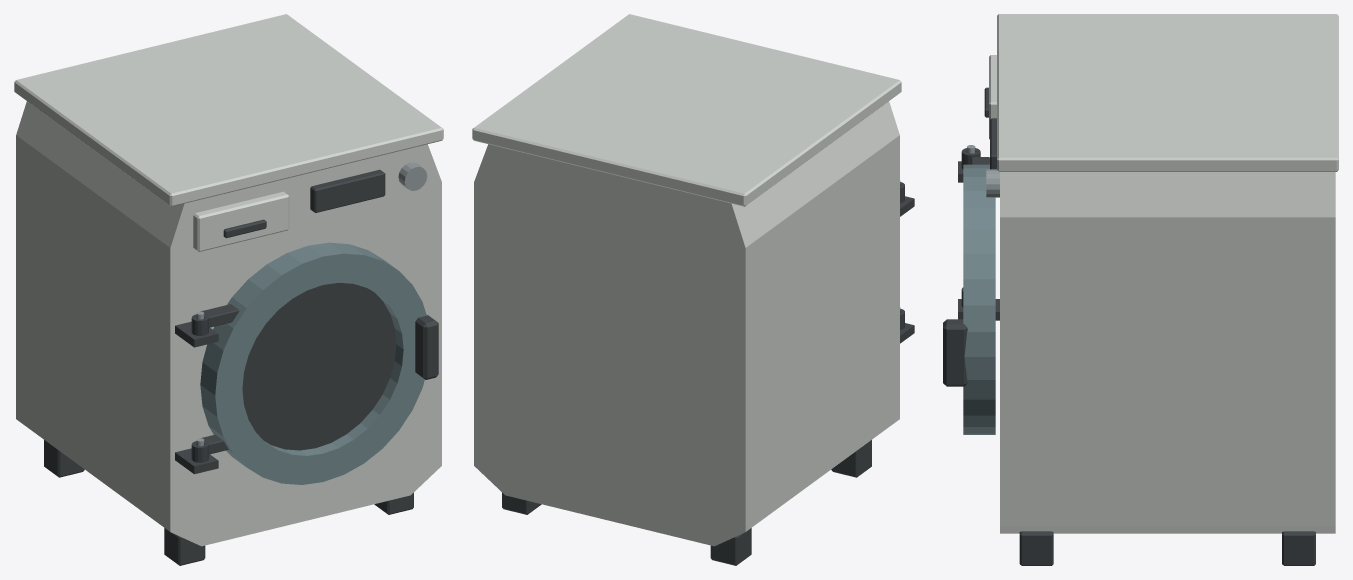
The picture shows the model from 3 angles, left to right: view 1: azimuth 30°, elevation 25°; view 2: azimuth 150°, elevation 25°; view 3: azimuth 270°, elevation 25°; orthographic projection. The views are drawn at different scales.
Parts seen in each view (by area): view 1: Continuous washer housing and real circular cavity, Upper overhanging appliance cap, Door thick annular rim, Door recessed dark inspection disc, Detergent drawer fixed face, Unlit control display, Door side pull grip, Washer grounded foot -0.25 -0.25, Washer grounded foot -0.25 0.25, Static selector dial, Fixed door hinge seat 1, Fixed door hinge seat 2 (+1 smaller); view 2: Continuous washer housing and real circular cavity, Upper overhanging appliance cap, Washer grounded foot -0.25 0.25, Washer grounded foot -0.25 -0.25; view 3: Continuous washer housing and real circular cavity, Upper overhanging appliance cap, Door thick annular rim, Door side pull grip, Washer grounded foot 0.25 -0.25, Washer grounded foot 0.25 0.25, Detergent drawer fixed face.
Boxes of the visible parts, x1=… form: Continuous washer housing and real circular cavity: x1=16, y1=101, x2=441, y2=546; Upper overhanging appliance cap: x1=14, y1=14, x2=443, y2=206; Door thick annular rim: x1=200, y1=242, x2=426, y2=484; Door recessed dark inspection disc: x1=242, y1=282, x2=396, y2=450; Detergent drawer fixed face: x1=193, y1=191, x2=289, y2=251; Unlit control display: x1=310, y1=169, x2=385, y2=212; Door side pull grip: x1=415, y1=315, x2=438, y2=379; Washer grounded foot -0.25 -0.25: x1=164, y1=528, x2=205, y2=565; Washer grounded foot -0.25 0.25: x1=44, y1=440, x2=84, y2=477; Static selector dial: x1=398, y1=162, x2=427, y2=190; Fixed door hinge seat 1: x1=175, y1=448, x2=218, y2=474; Fixed door hinge seat 2: x1=175, y1=321, x2=218, y2=347; Continuous washer housing and real circular cavity: x1=474, y1=101, x2=899, y2=546; Upper overhanging appliance cap: x1=472, y1=14, x2=901, y2=206; Washer grounded foot -0.25 0.25: x1=710, y1=528, x2=751, y2=565; Washer grounded foot -0.25 -0.25: x1=831, y1=440, x2=871, y2=477; Continuous washer housing and real circular cavity: x1=1000, y1=172, x2=1335, y2=533; Upper overhanging appliance cap: x1=997, y1=14, x2=1338, y2=171; Door thick annular rim: x1=963, y1=164, x2=995, y2=434; Door side pull grip: x1=943, y1=319, x2=967, y2=386; Washer grounded foot 0.25 -0.25: x1=1019, y1=531, x2=1053, y2=565; Washer grounded foot 0.25 0.25: x1=1282, y1=531, x2=1315, y2=565; Detergent drawer fixed face: x1=989, y1=55, x2=996, y2=139.
Size of the model in its own units: 0.656 by 0.88 by 0.7545.
